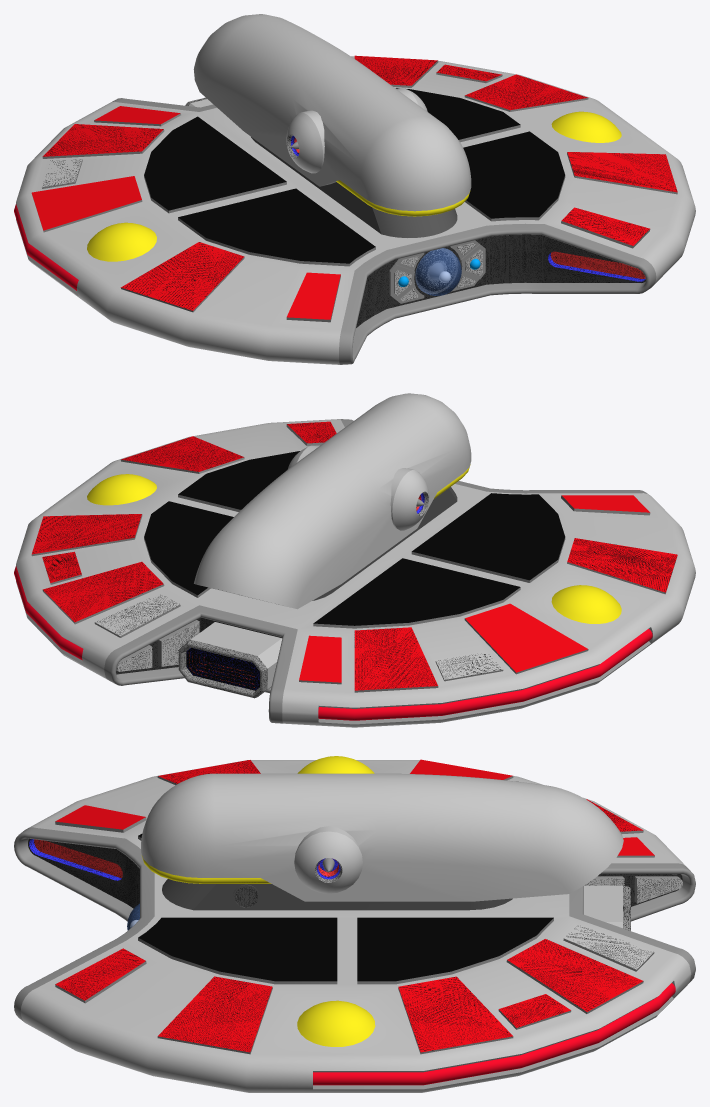
File: redAlien.dae
3 renders of one model, top to bottom at view 1: azimuth 30°, elevation 25°; view 2: azimuth 150°, elevation 25°; view 3: azimuth 270°, elevation 25°, orthographic. The views are drawn at different scales.
Parts seen in each view (by area): view 1: SketchUp (×30); view 2: SketchUp (×33); view 3: SketchUp (×28).
Part boxes in pixels (<box>): SketchUp (×30): <box>14,14,695,364</box>; SketchUp (×33): <box>14,393,695,727</box>; SketchUp (×28): <box>14,756,695,1092</box>.
Bounding box in the file's own units: 2735 × 2545 × 807.
